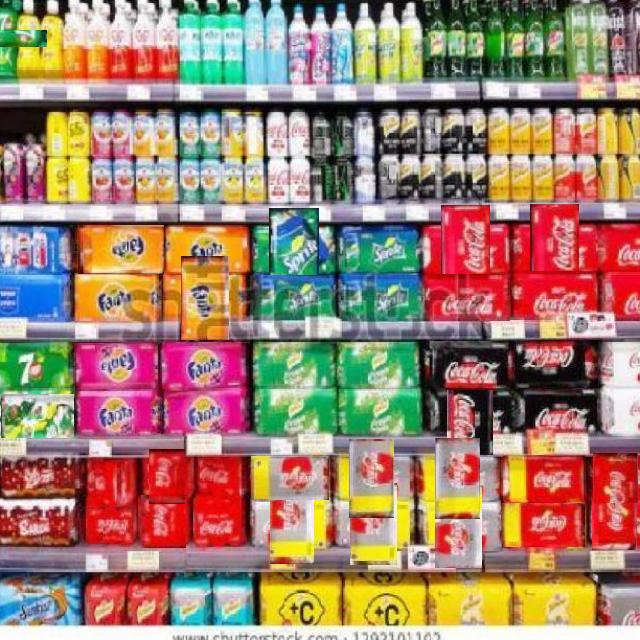Drinks: (424, 341, 515, 390), (441, 204, 490, 292), (530, 203, 579, 291), (77, 225, 164, 274), (164, 224, 251, 273), (269, 207, 319, 292), (511, 272, 597, 321), (74, 274, 161, 322), (513, 340, 598, 389), (423, 274, 509, 322), (337, 222, 421, 271), (160, 343, 248, 389), (181, 256, 229, 340), (516, 389, 601, 435), (251, 276, 336, 322), (338, 273, 423, 319), (349, 484, 397, 565), (74, 343, 158, 389), (77, 392, 161, 438), (446, 373, 493, 455), (435, 486, 482, 568), (163, 391, 248, 436), (269, 482, 314, 564), (502, 503, 585, 547), (435, 438, 480, 519), (503, 456, 585, 500), (349, 438, 394, 518), (250, 456, 329, 500), (0, 343, 75, 389), (0, 393, 74, 438), (194, 498, 243, 547), (140, 496, 186, 548), (592, 453, 638, 503), (593, 500, 637, 550), (148, 449, 185, 504), (196, 456, 245, 496), (86, 506, 133, 543), (0, 31, 47, 47)
